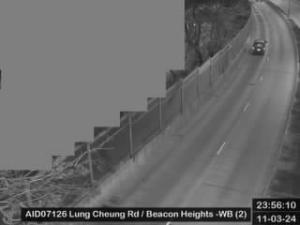vehicle: (251, 39, 267, 54)
